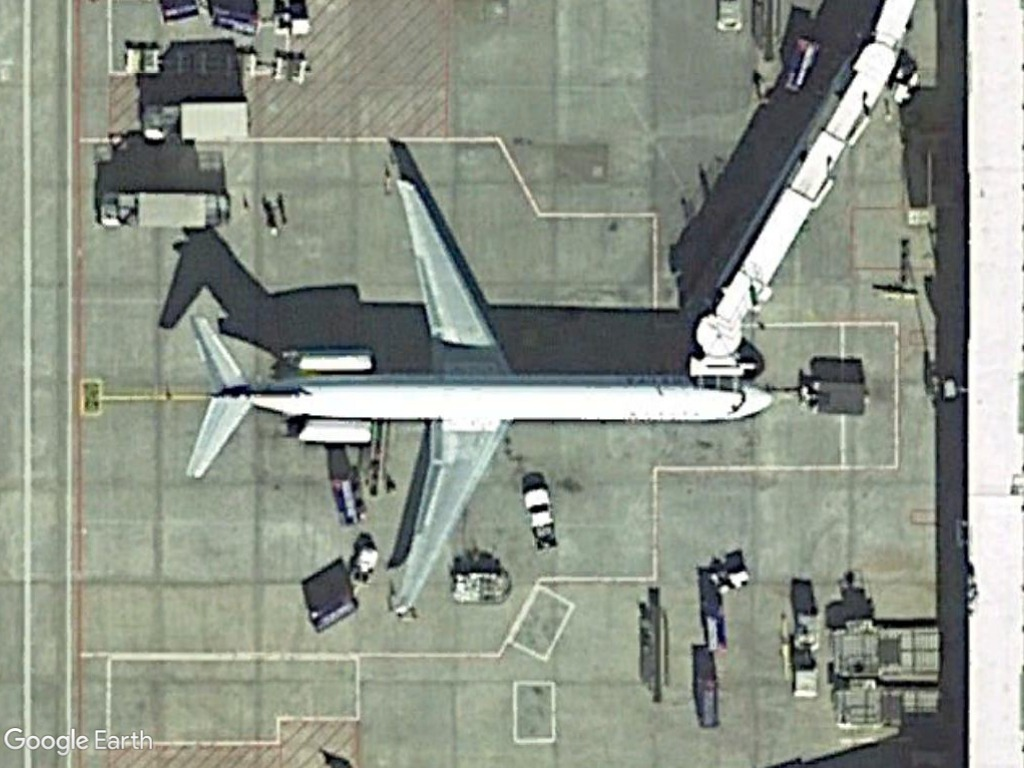chartered: (170, 164, 788, 631)
truck: (141, 92, 258, 149)
